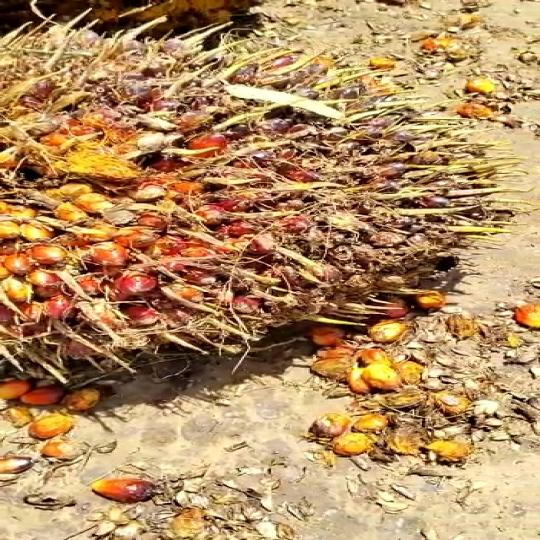masak: (0, 17, 508, 393)
